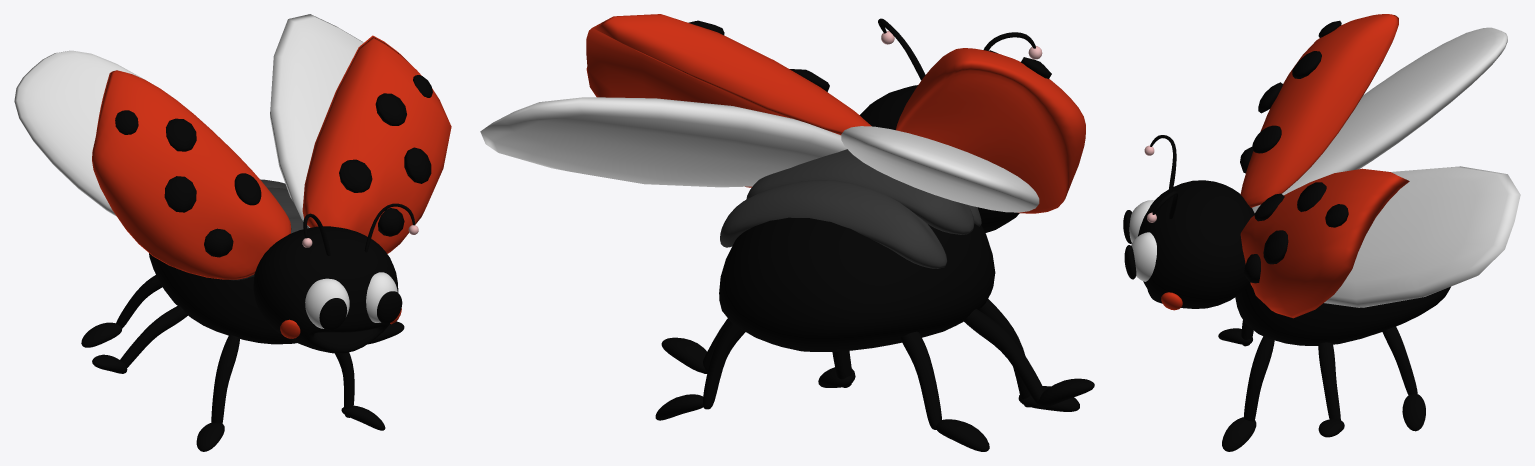
File: Ladybug.gltf
3 views of the same model, side by side, from view 1: azimuth 30°, elevation 25°; view 2: azimuth 150°, elevation 25°; view 3: azimuth 270°, elevation 25° (orthographic). The views are drawn at different scales.
Visible parts, largest first — view 1: Cube 22.001, Cube 22.005, Cube 14, Cube 24.008, Cube 13, Cube 13.002, Cube 19.001, Sphere 16, Cube 13.001, Sphere 18, Sphere 22.004, Sphere 22.005 (+16 smaller); view 2: Cube 13.002, Cube 24.008, Cube 22.001, Cube 22.005, Cube 22.002, Cube 13, Cube 22.003, Cube 13.001, Cube 14, Cube 17.001, Cube 24.005, Cube 18 (+4 smaller); view 3: Cube 24.008, Cube 22.001, Cube 22.005, Cube 13, Cube 14, Cube 13.002, Cube 24.006, Cube 24.007, Sphere 22.005, Cube 24.005, Cube 24.003, Cube 24.002 (+8 smaller).
Part boxes in pixels (x1,y1,x2,y2): Cube 22.001: [92, 70, 291, 279]; Cube 22.005: [302, 35, 451, 253]; Cube 14: [253, 226, 398, 353]; Cube 24.008: [270, 14, 363, 227]; Cube 13: [14, 50, 144, 216]; Cube 13.002: [149, 253, 296, 344]; Cube 19.001: [211, 335, 239, 423]; Sphere 16: [305, 278, 349, 328]; Cube 13.001: [120, 305, 187, 367]; Sphere 18: [164, 176, 196, 212]; Sphere 22.004: [339, 159, 372, 192]; Sphere 22.005: [366, 272, 397, 322]; Cube 13.002: [719, 217, 995, 351]; Cube 24.008: [480, 97, 846, 187]; Cube 22.001: [896, 48, 1085, 213]; Cube 22.005: [586, 14, 871, 187]; Cube 22.002: [720, 180, 946, 268]; Cube 13: [841, 126, 1039, 212]; Cube 22.003: [746, 149, 974, 234]; Cube 13.001: [963, 309, 1044, 407]; Cube 14: [860, 85, 1019, 232]; Cube 17.001: [900, 331, 941, 429]; Cube 24.005: [703, 322, 745, 409]; Cube 18: [936, 419, 989, 451]; Cube 24.008: [1324, 166, 1520, 307]; Cube 22.001: [1240, 14, 1398, 207]; Cube 22.005: [1240, 168, 1409, 318]; Cube 13: [1252, 27, 1507, 212]; Cube 14: [1138, 180, 1254, 308]; Cube 13.002: [1235, 282, 1450, 345]; Cube 24.006: [1243, 336, 1274, 421]; Cube 24.007: [1318, 342, 1340, 420]; Sphere 22.005: [1131, 232, 1156, 281]; Cube 24.005: [1382, 326, 1417, 394]; Cube 24.003: [1222, 417, 1256, 451]; Cube 24.002: [1402, 393, 1425, 431].
Bounding box in the file's own units: 531 × 466 × 485.
